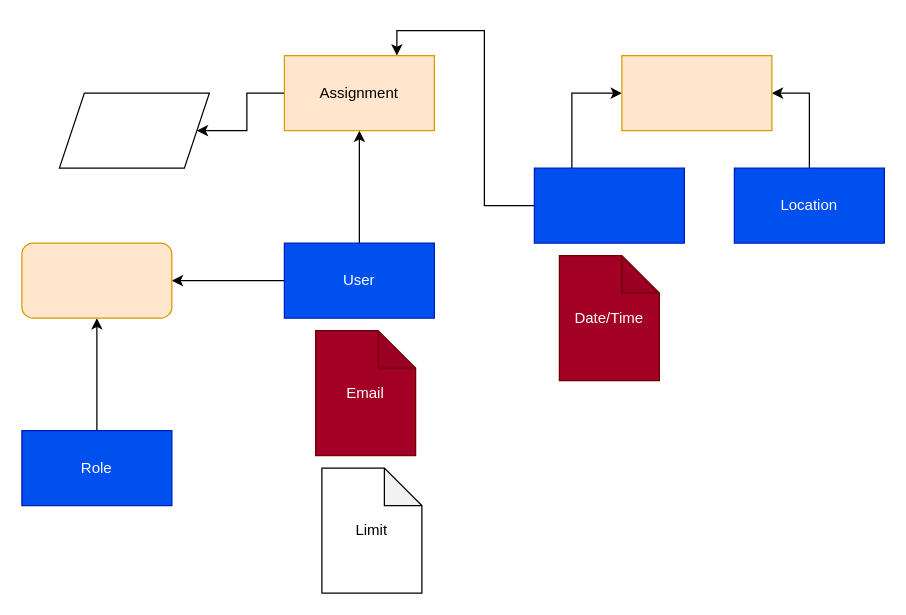
Image size: 906x615. Some labels were removed from this diagram. Each missing label, with the box of its shape:
Shift: (533, 167, 684, 243)
Shift-Location: (621, 54, 772, 131)
user hours: (58, 92, 209, 168)
User-Role: (21, 242, 172, 318)
